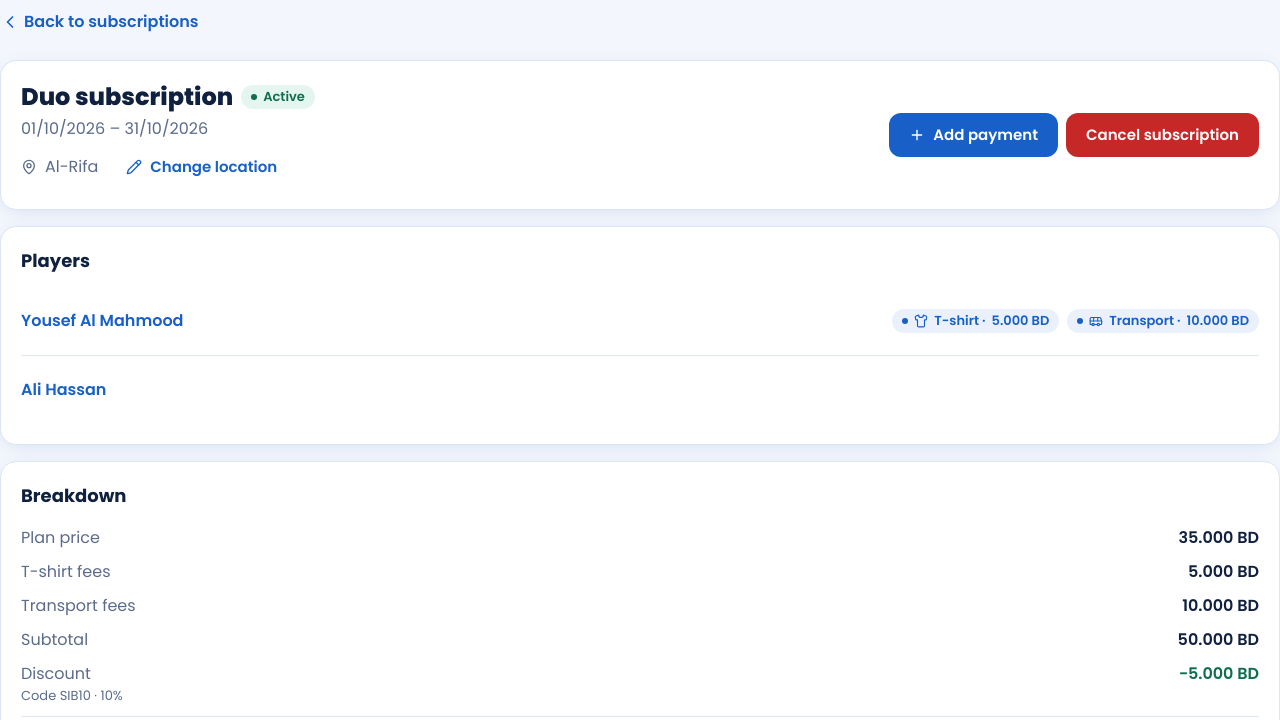
Scenario: SubscriptionDetailPage › cancelling › asks for a reason and does nothing without one
Click the button "Cancel subscription" at (1162, 135), box [1066, 113, 1259, 157]
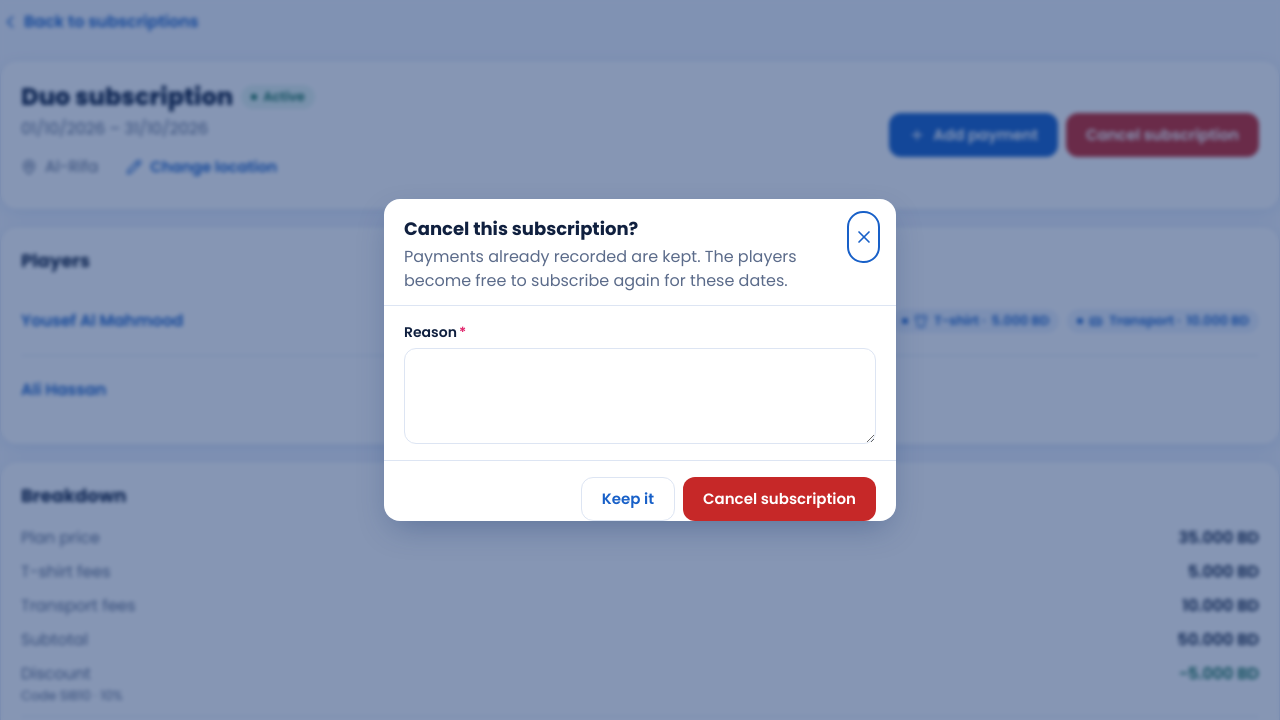
Expected: the text "Payments already recorded are kept" is shown, [404, 245, 797, 292]
Click the button "Cancel subscription" at (780, 499), box [683, 477, 876, 521]
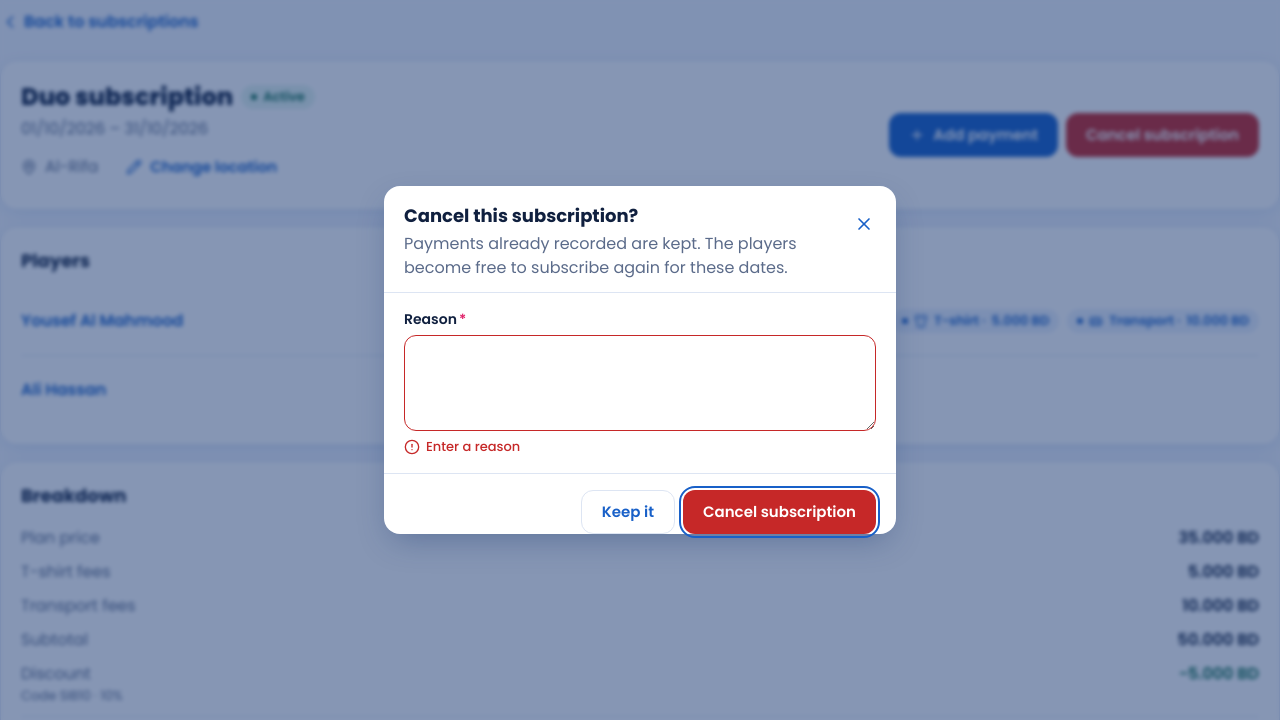
Expected: the text "Enter a reason" is shown, [426, 437, 520, 457]
